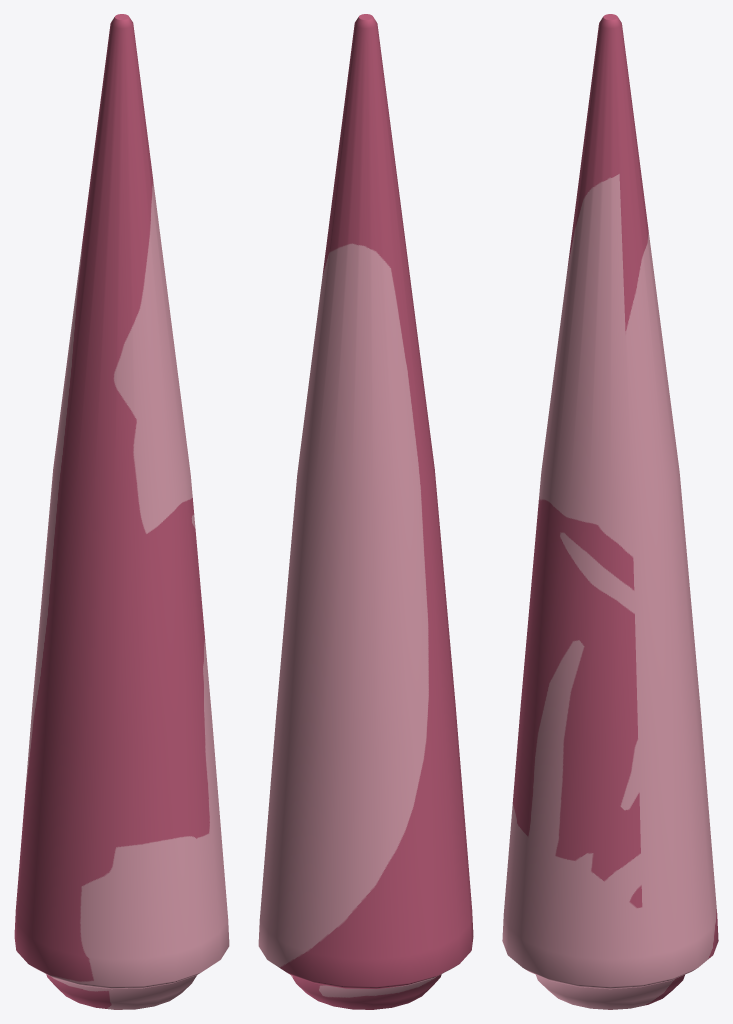
The model's file is VS_grapplinghook_LP.fbx.
3 renders of one model, left to right at view 1: azimuth 30°, elevation 25°; view 2: azimuth 150°, elevation 25°; view 3: azimuth 270°, elevation 25°, orthographic.
Visible parts, largest first — view 1: pCylinder2; view 2: pCylinder2; view 3: pCylinder2.
Part boxes in pixels (x1,y1,x2,y2): pCylinder2: (14, 14, 229, 1009); pCylinder2: (258, 14, 473, 1009); pCylinder2: (502, 14, 718, 1009).
Bounding box in the file's own units: 13.67 × 67.63 × 13.67.
